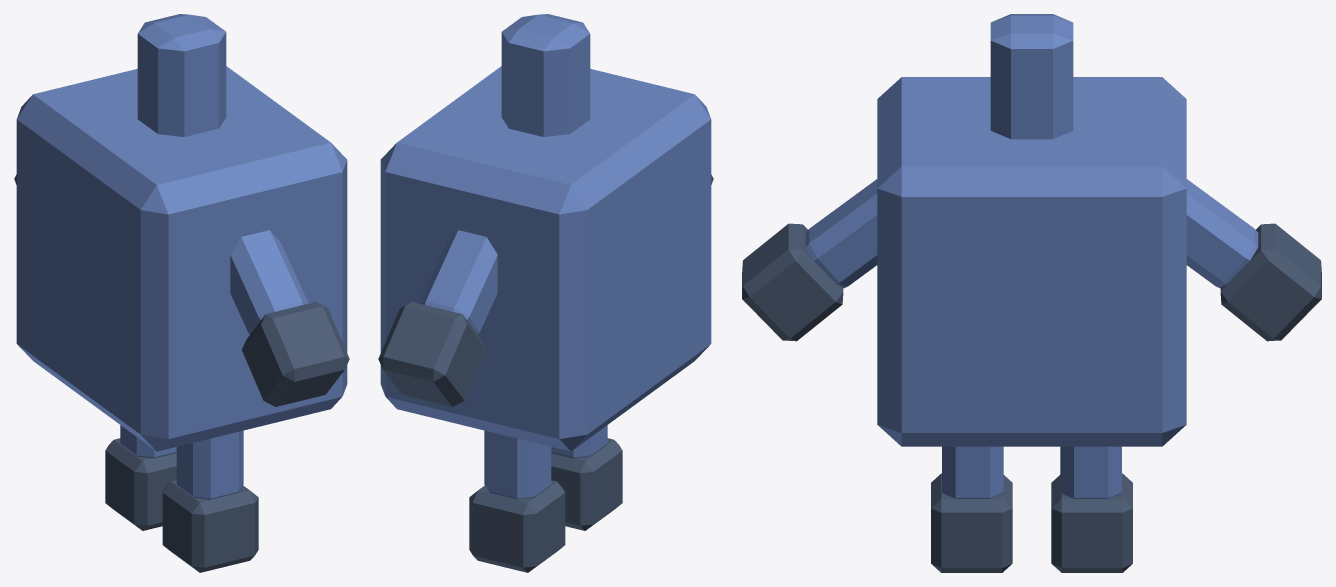
File: RobotOrderOrange.fbx
3 views of the same model, side by side, from view 1: azimuth 30°, elevation 25°; view 2: azimuth 150°, elevation 25°; view 3: azimuth 270°, elevation 25° (orthographic). The views are drawn at different scales.
Parts seen in each view (by area): view 1: BodyOrange, LegsOrange, HandsOrange; view 2: BodyOrange, LegsOrange, HandsOrange; view 3: BodyOrange, HandsOrange, LegsOrange.
Part boxes in pixels (x1,y1,x2,y2): BodyOrange: (16,14,347,451); LegsOrange: (105,425,258,572); HandsOrange: (14,174,349,406); BodyOrange: (380,14,711,451); LegsOrange: (469,425,622,572); HandsOrange: (378,174,713,406); BodyOrange: (877,14,1186,446); HandsOrange: (742,179,1321,341); LegsOrange: (931,446,1132,572).
Size of the model in its own units: 19.42 by 45.72 by 44.87.
